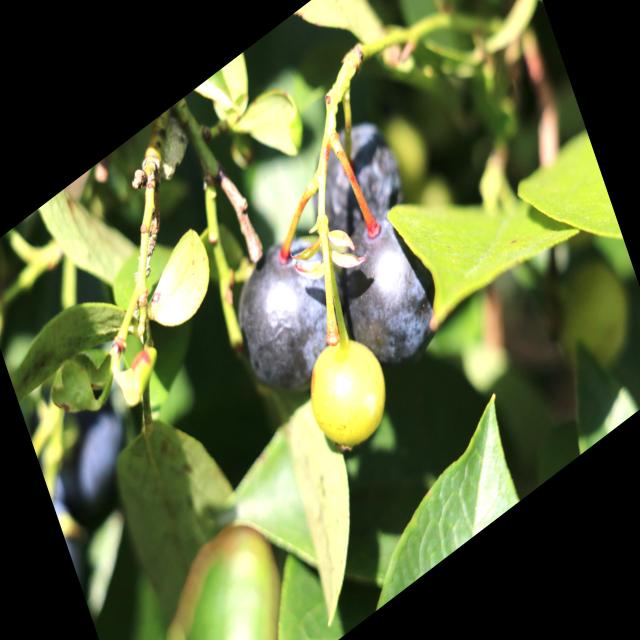blueberry: (220, 214, 360, 423), (326, 190, 455, 392), (296, 108, 408, 258)
blueberry-unripe: (295, 316, 397, 470)
